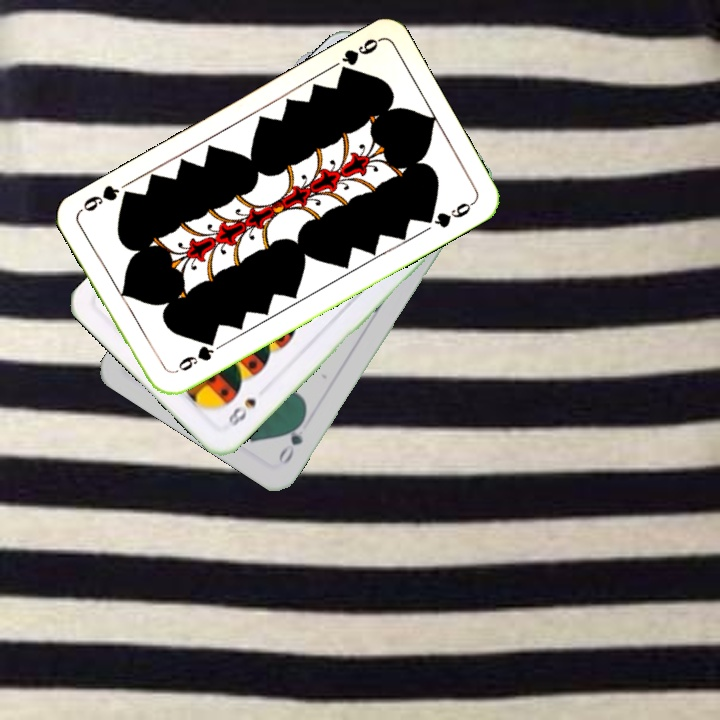G9: (335, 34, 383, 80), (169, 335, 218, 377)
GO: (274, 412, 308, 468)
S8: (219, 393, 259, 432)
